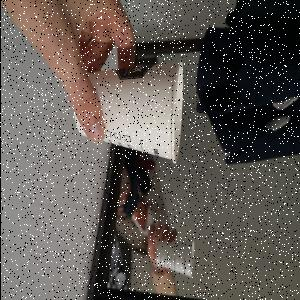Cup: (73, 58, 185, 166), (155, 238, 197, 280)
